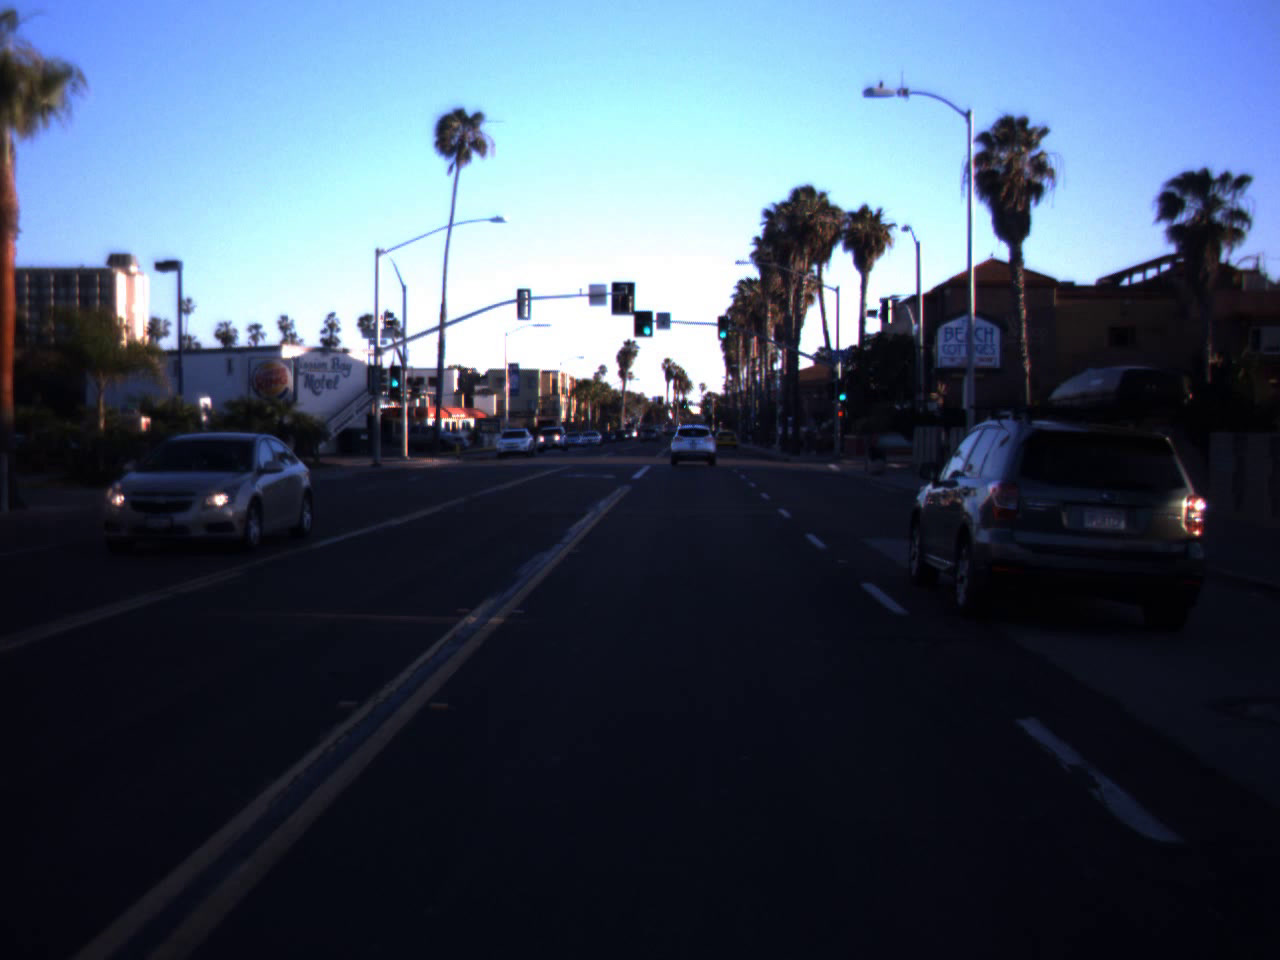go: (638, 307, 656, 337), (388, 363, 403, 388), (715, 315, 730, 340), (835, 381, 850, 401)
